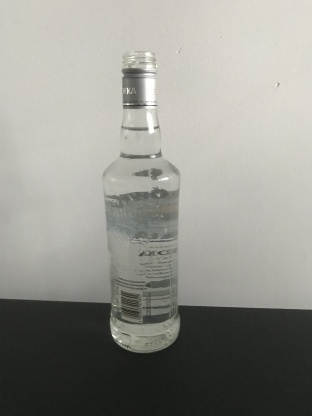nakretka: (119, 47, 158, 109)
